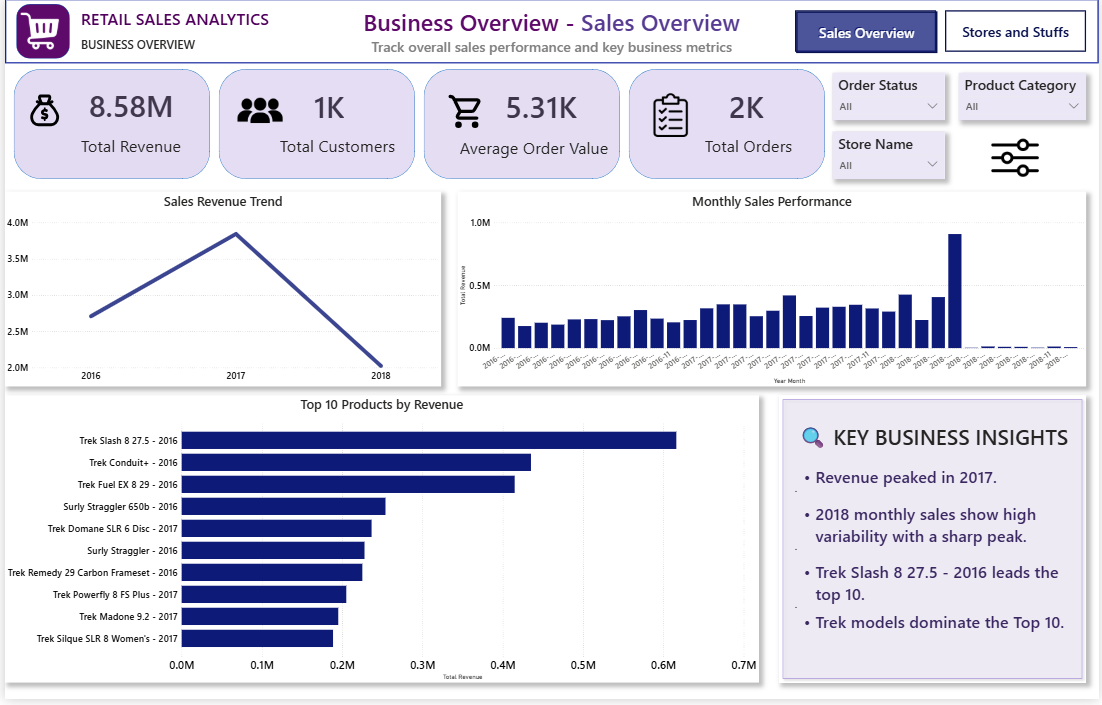

The dashboard page shown, as its layout file describes it:
{"tool":"powerbi","page":{"name":"sales and stores","canvas":[2500,1600],"ordinal":0},"visuals":[{"type":"shape","box":[0,0,2500,147.5],"z":0},{"type":"shape","box":[25,12.5,122.5,125],"z":1000},{"type":"image","box":[35,25,90,95],"z":2000},{"type":"textbox","title":"sales side txt box","box":[167.5,15,680,132.5],"z":3000},{"type":"textbox","title":"sales header","box":[777.5,12.5,945,135],"z":4000},{"type":"actionButton","title":"sales off","box":[1805,25,322.5,95],"z":5000},{"type":"actionButton","title":"stores off","box":[2147.5,25,322.5,95],"z":6000},{"type":"actionButton","title":"sales on","box":[1807.5,27.5,322.5,95],"z":7000},{"type":"cardVisual","fields":{"Data":["Table_measures.Total Revenue"]},"box":[162.9,177.1,262.9,128.6],"z":9000},{"type":"shape","box":[20,160,448.6,251.4],"z":10000},{"type":"textbox","box":[168.6,305.7,257.5,70],"z":11000},{"type":"image","box":[37.1,200,110,105],"z":12000},{"type":"cardVisual","fields":{"Data":["Table_measures.Active Customers"]},"box":[677.1,188.6,202.5,107.5],"z":13000},{"type":"shape","box":[488.6,160,448.6,251.4],"z":14000},{"type":"textbox","box":[622.9,305.7,308.6,71.4],"z":15000},{"type":"image","box":[531.4,200,102.9,108.6],"z":16000},{"type":"cardVisual","fields":{"Data":["Table_measures.Avg Order Value"]},"box":[1114.3,188.6,248.6,108.6],"z":17000},{"type":"shape","box":[957.1,160,448.6,251.4],"z":18000},{"type":"textbox","box":[1034.3,308.6,391.4,71.4],"z":19000},{"type":"image","box":[997.1,211.4,117.1,91.4],"z":20000},{"type":"cardVisual","fields":{"Data":["Table_measures.Total Orders"]},"box":[1625.7,188.6,247.5,107.5],"z":21000},{"type":"shape","box":[1425.7,160,448.6,251.4],"z":22000},{"type":"textbox","box":[1594.3,305.7,251.4,71.4],"z":23000},{"type":"image","box":[1471.4,211.4,100,108.6],"z":24000},{"type":"lineChart","title":"Sales Revenue Trend","fields":{"Y":["Table_measures.Total Revenue"],"Category":["orders.order_date.Variation.Date Hierarchy.Year"]},"box":[0,440,997.1,445.7],"z":25000},{"type":"clusteredColumnChart","title":"Monthly Sales Performance","fields":{"Y":["Table_measures.Total Revenue"],"Category":["orders.Year Month"]},"box":[1034.3,440,1437.1,445.7],"z":26000},{"type":"slicer","fields":{"Values":["orders.order_status"]},"box":[1891.4,168.6,257.1,108.6],"z":27000},{"type":"slicer","fields":{"Values":["products.Category"]},"box":[2180,168.6,291.4,108.6],"z":28000},{"type":"slicer","fields":{"Values":["stores.store_name"]},"box":[1891.4,302.9,257.1,108.6],"z":29000},{"type":"image","box":[2180,308.6,257.1,108.6],"z":30000},{"type":"clusteredBarChart","title":"Top 10 Products by Revenue","fields":{"Y":["Table_measures.Total Revenue"],"Category":["order_items.product_name"]},"box":[0,905.7,1722.9,657.1],"z":31000},{"type":"shape","box":[1768.6,905.7,702.9,657.1],"z":32000},{"type":"textbox","box":[1792.5,946.2,661.2,616.2],"z":33000}]}

Visuals, with their boxes in screenshot pixels (x1, y1, x2, y2), scaled from the page's 2500x1600 canvas onto the 1102x705 screenshot:
shape: [0,0,1101,65]
shape: [11,6,65,61]
image: [15,11,55,53]
"sales side txt box" textbox: [74,7,374,65]
"sales header" textbox: [343,6,759,65]
"sales off" actionButton: [796,11,938,53]
"stores off" actionButton: [947,11,1089,53]
"sales on" actionButton: [797,12,939,54]
cardVisual - Table_measures.Total Revenue: [72,78,188,135]
shape: [9,70,207,181]
textbox: [74,135,188,166]
image: [16,88,65,134]
cardVisual - Table_measures.Active Customers: [298,83,388,130]
shape: [215,70,413,181]
textbox: [275,135,411,166]
image: [234,88,280,136]
cardVisual - Table_measures.Avg Order Value: [491,83,601,131]
shape: [422,70,620,181]
textbox: [456,136,628,167]
image: [440,93,491,133]
cardVisual - Table_measures.Total Orders: [717,83,826,130]
shape: [628,70,826,181]
textbox: [703,135,814,166]
image: [649,93,693,141]
"Sales Revenue Trend" lineChart: [0,194,440,390]
"Monthly Sales Performance" clusteredColumnChart: [456,194,1089,390]
slicer - orders.order_status: [834,74,947,122]
slicer - products.Category: [961,74,1089,122]
slicer - stores.store_name: [834,133,947,181]
image: [961,136,1074,184]
"Top 10 Products by Revenue" clusteredBarChart: [0,399,759,689]
shape: [780,399,1089,689]
textbox: [790,417,1082,688]
